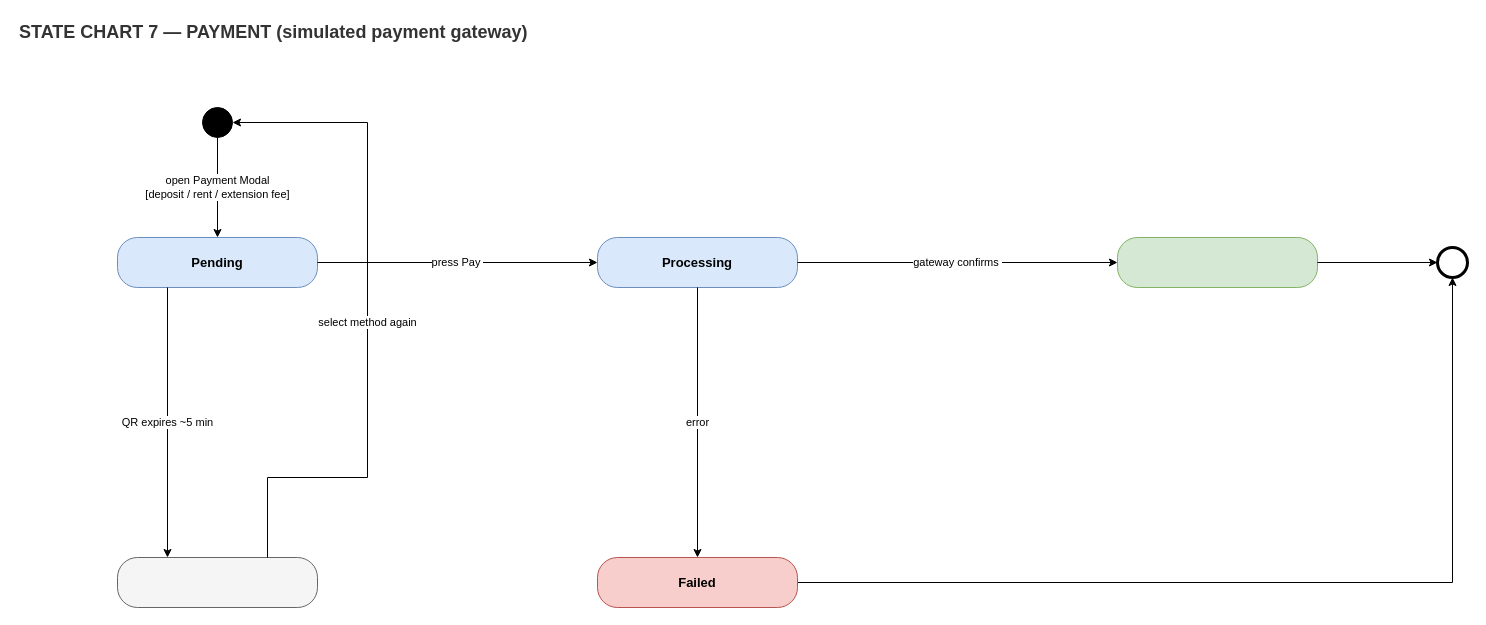
The diagram is 1486 pixels wide and 625 high, and some of its shapes have lost their labels. Here are the shapes that lost their labels. From the top down, the box of each, then its label:
(1116, 236, 1318, 288): Succeeded
(116, 556, 318, 608): Expired
